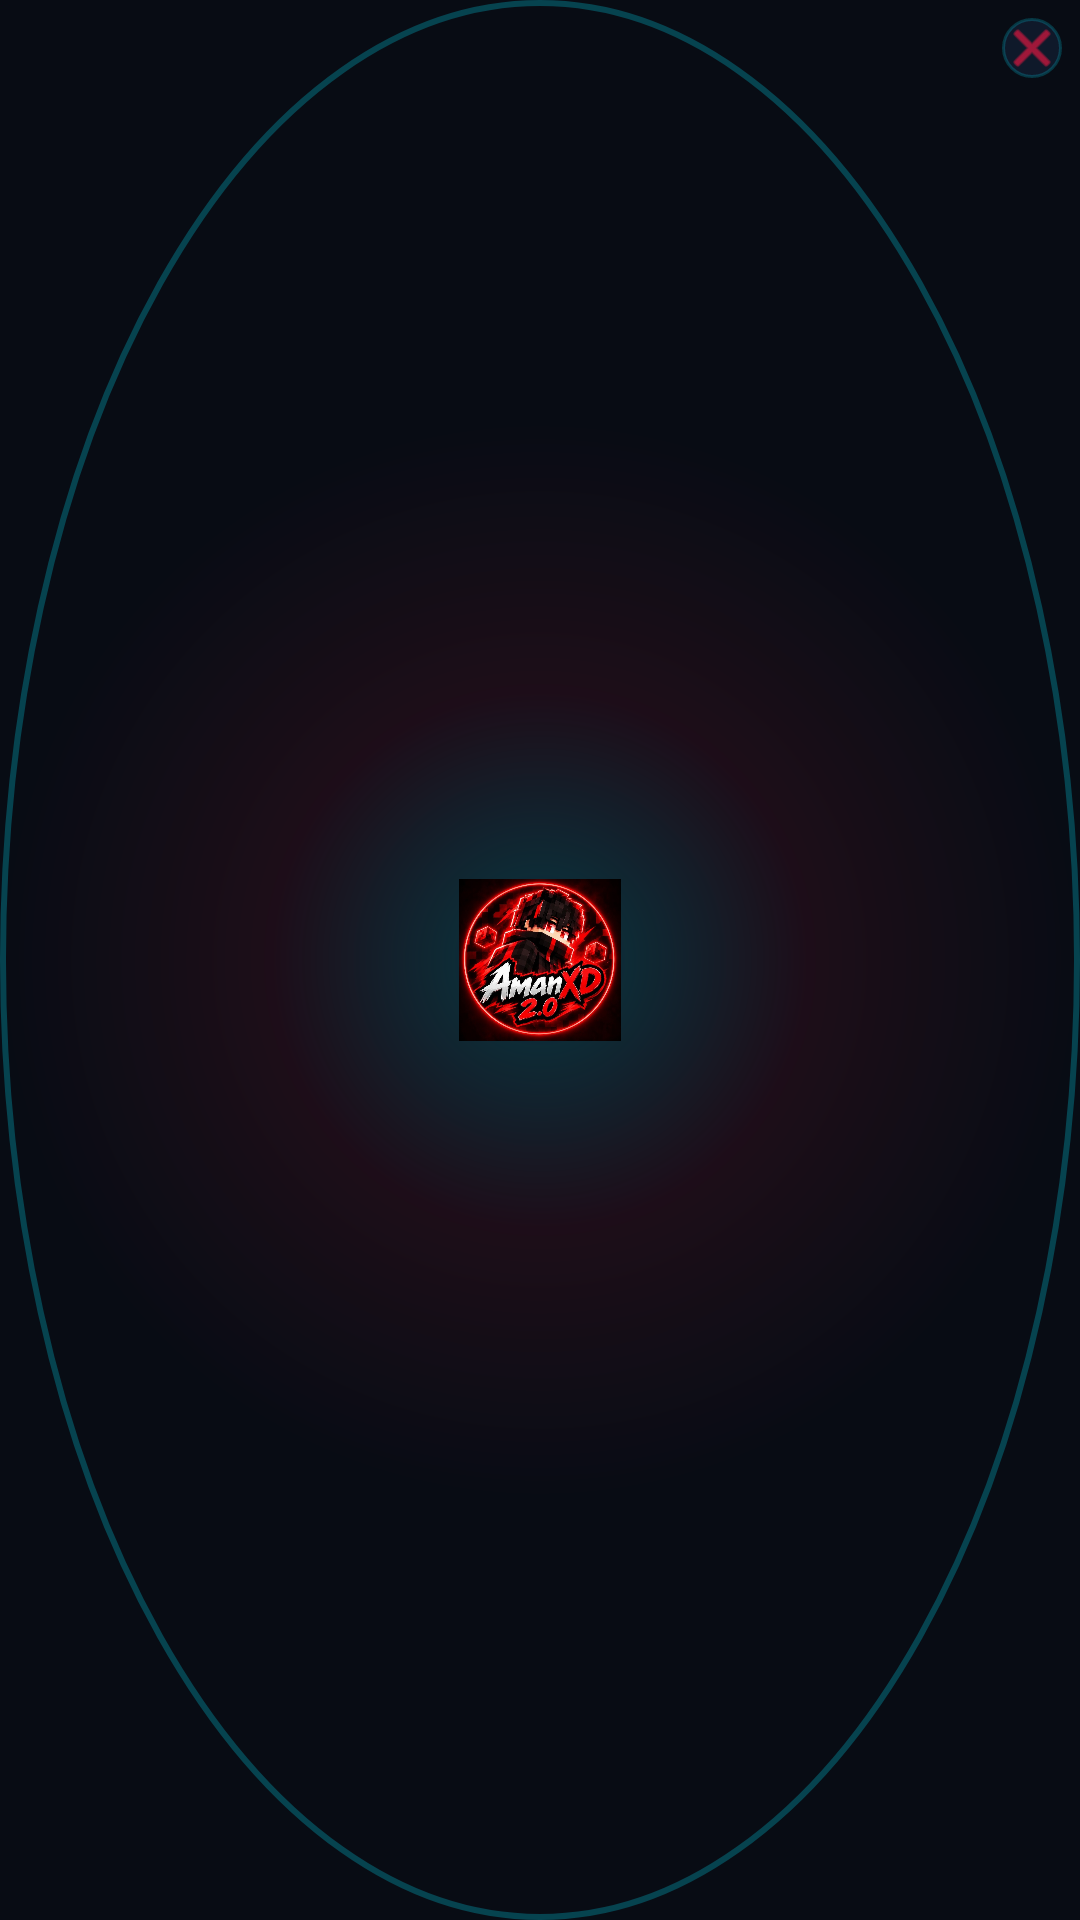

Locate icon controls on the screen. Image size 1080x1920, boxes as (x1, y1, x2, y2).
Close Bubble: (1002, 18, 1062, 78)
